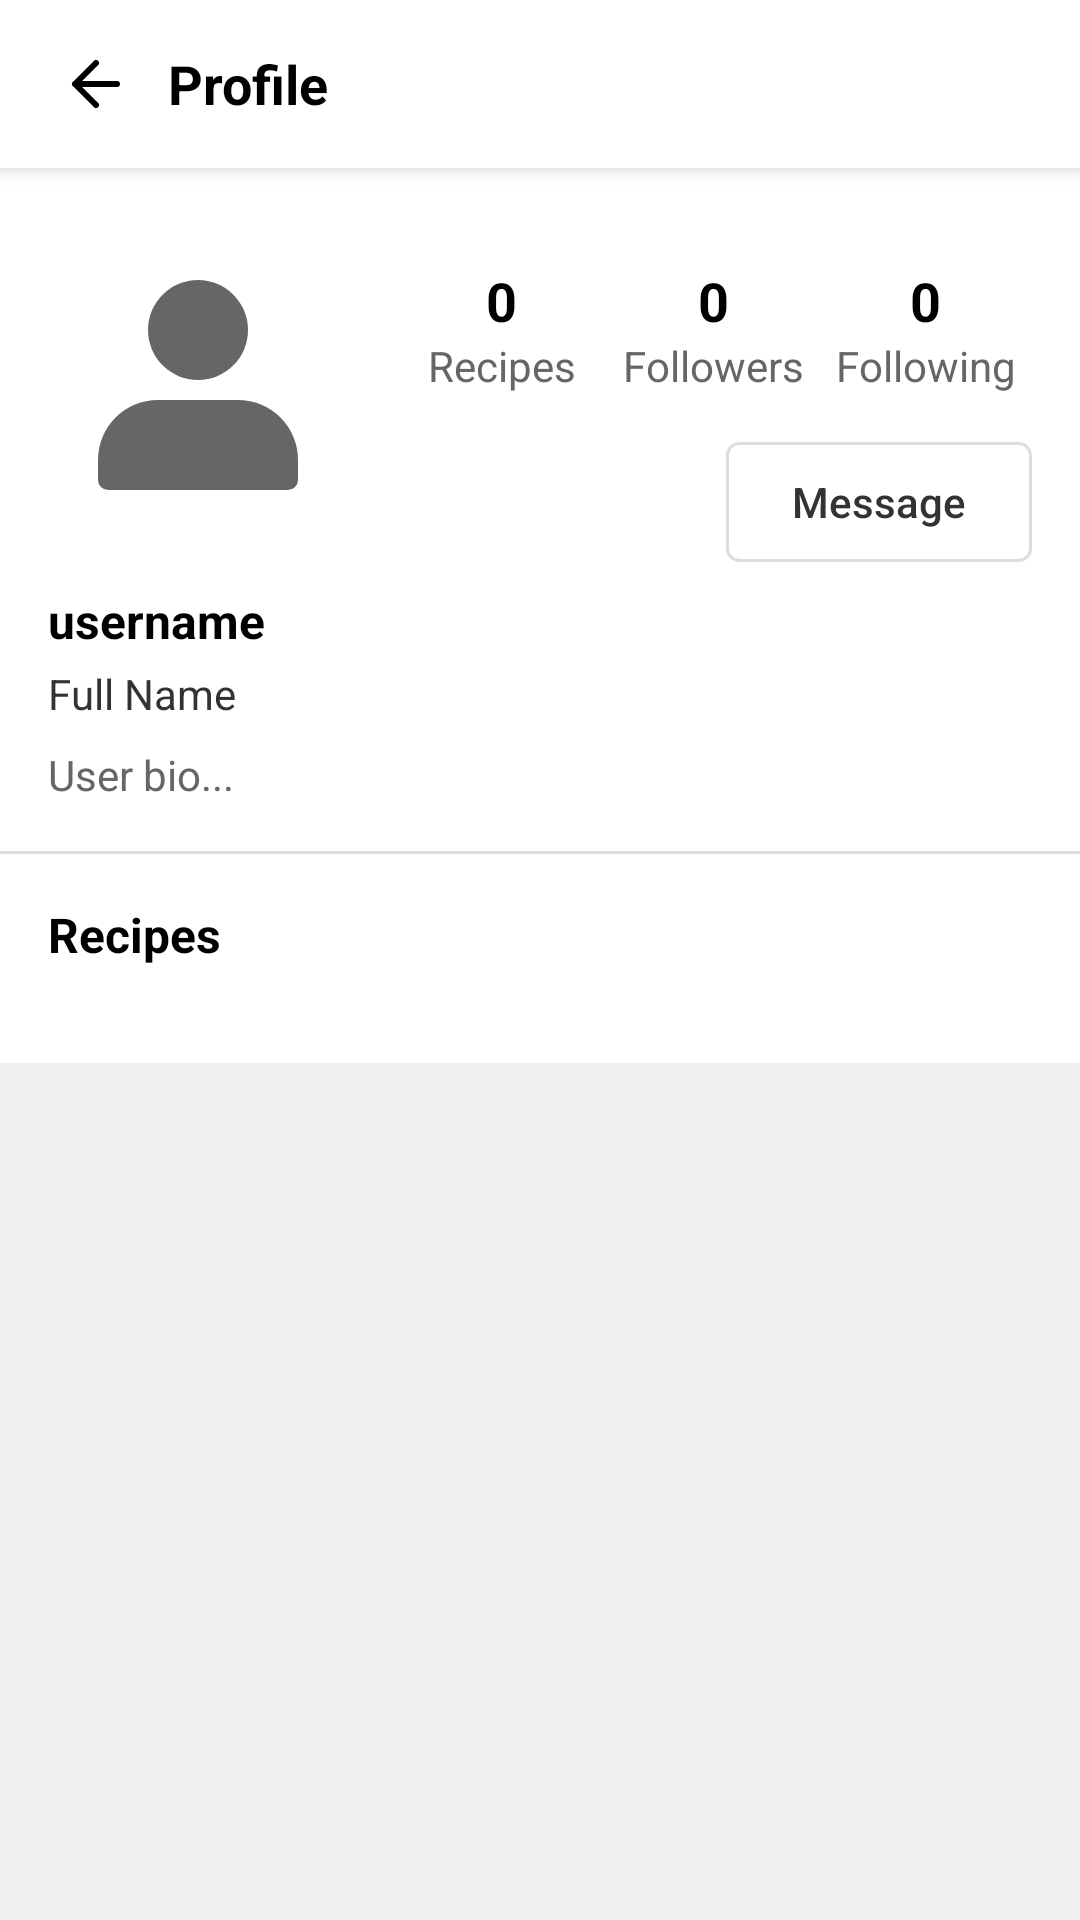

Screen size 1080 x 1920. Icon name, then its box in pixels as (x1, y1, x2, y2):
back: (72, 60, 120, 108)
